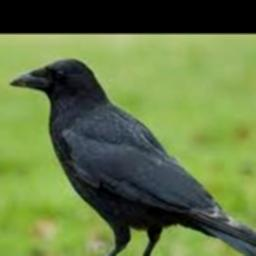Crow: (12, 58, 256, 256)
